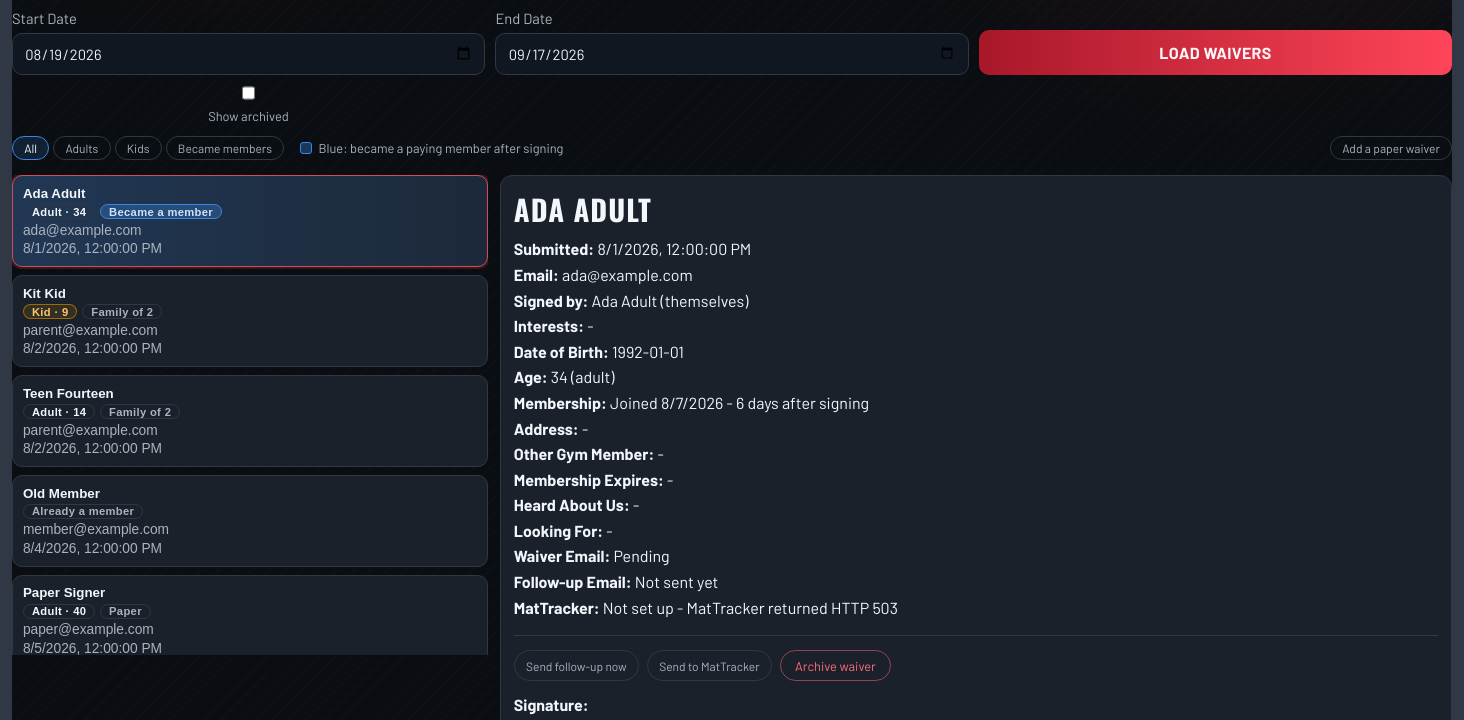
Scenario: WaiverAdmin list › shows MatTracker status and sends a waiver again on request
This screenshot has width=1464, height=720.
(page scrolled)
Check: the text "MatTracker: Not set up - MatTracker returned HTTP 503" is shown, box 514,598 -> 898,617
Step 1. Click the button "Send to MatTracker" → (709, 666), box 647,650 -> 772,681
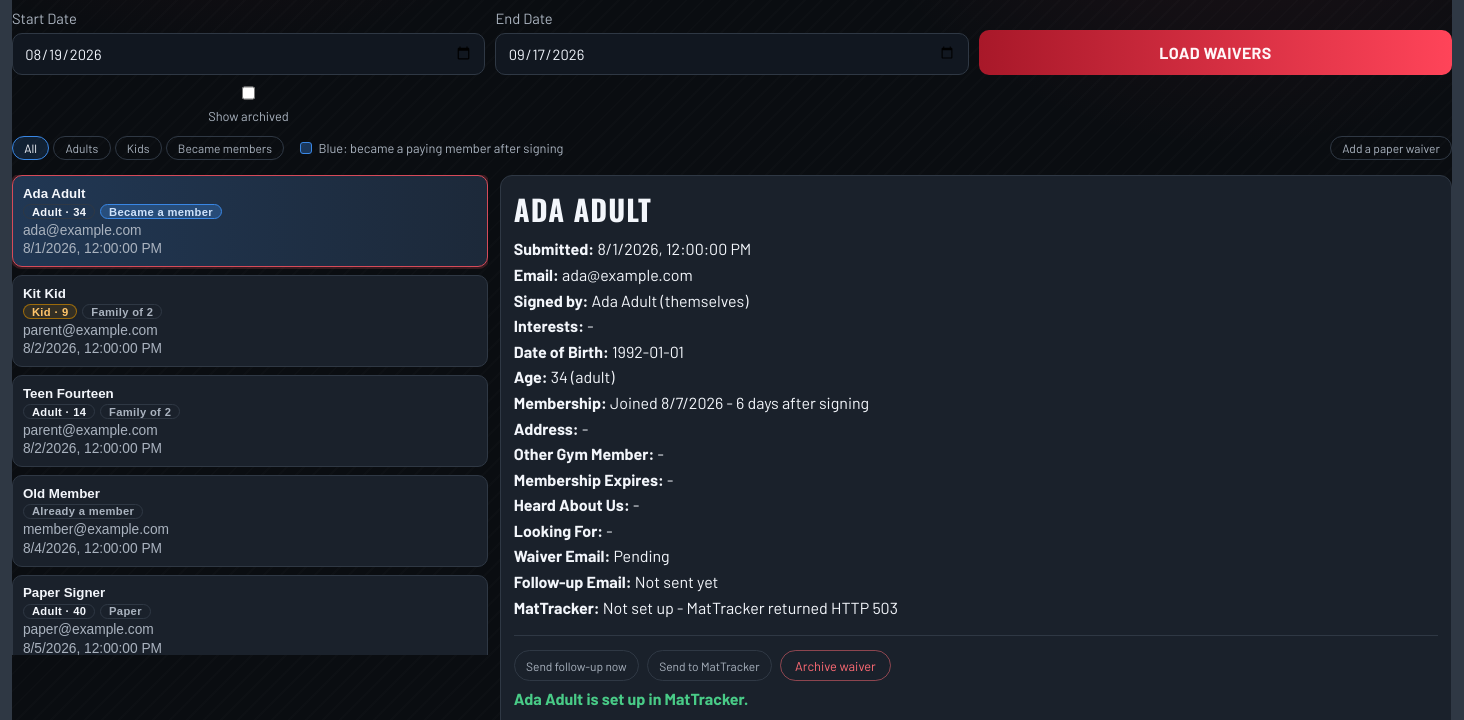
Check: the text "Ada Adult is set up in MatTracker." is shown, box 514,688 -> 748,708
